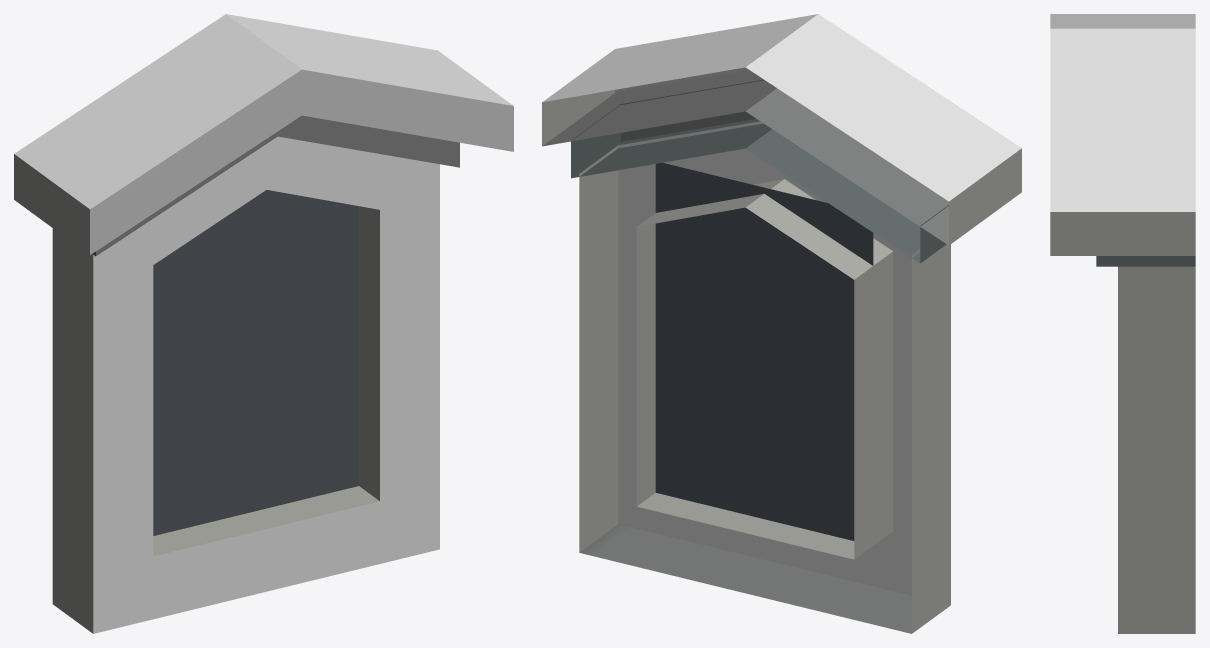
File: TB_CITY_BD_Window_Small_E.FBX
The picture shows the model from 3 angles, left to right: view 1: azimuth 30°, elevation 25°; view 2: azimuth 150°, elevation 25°; view 3: azimuth 270°, elevation 25°; orthographic projection. The views are drawn at different scales.
Parts seen in each view (by area): view 1: TB_CITY_BD_Window_Small_E; view 2: TB_CITY_BD_Window_Small_E; view 3: TB_CITY_BD_Window_Small_E.
Part boxes in pixels (box(x1,y1,x2,y2)): TB_CITY_BD_Window_Small_E: box(14, 14, 513, 633); TB_CITY_BD_Window_Small_E: box(542, 14, 1021, 633); TB_CITY_BD_Window_Small_E: box(1050, 14, 1195, 633).
Bounding box in the file's own units: 1.76 × 2.17 × 0.5459.
